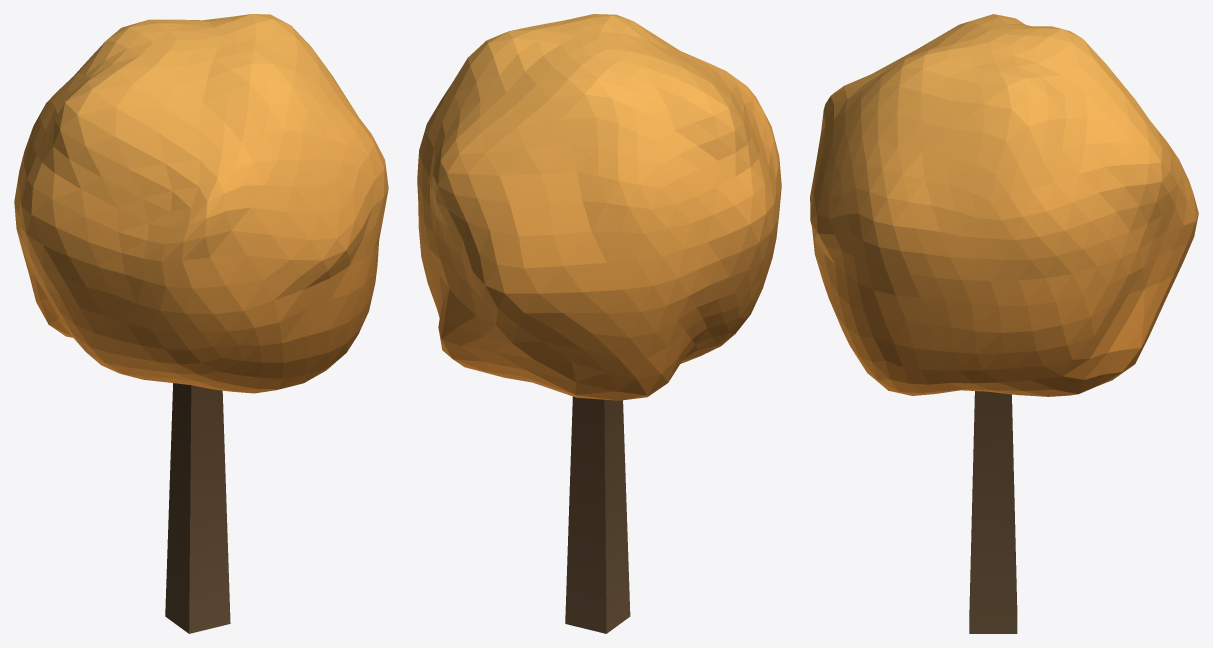
The model's file is small-tree-4.glb.
3 renders of one model, left to right at view 1: azimuth 30°, elevation 25°; view 2: azimuth 150°, elevation 25°; view 3: azimuth 270°, elevation 25°, orthographic.
Parts seen in each view (by area): view 1: small-tree-4; view 2: small-tree-4; view 3: small-tree-4.
Part boxes in pixels (box(x1,y1,x2,y2)): small-tree-4: box(14, 14, 388, 633); small-tree-4: box(417, 14, 781, 633); small-tree-4: box(810, 14, 1198, 633).
Size of the model in its own units: 0.4007 by 0.6864 by 0.4149.
1 material, 1 textured.
